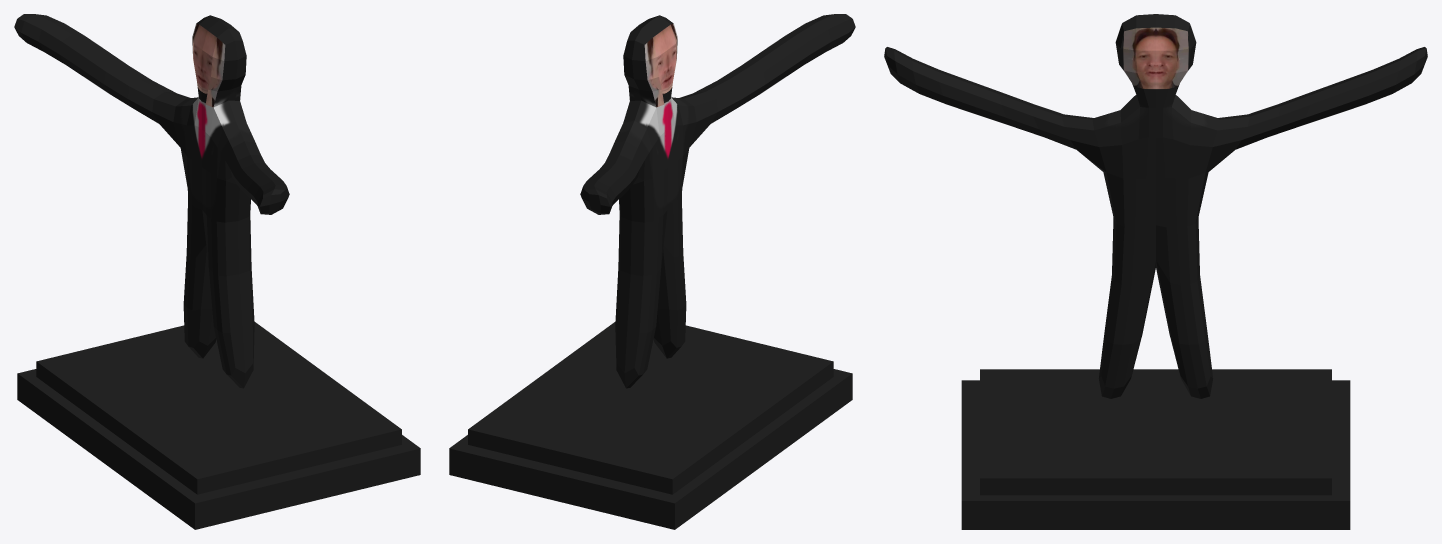
File: prof.fbx
3 renders of one model, left to right at view 1: azimuth 30°, elevation 25°; view 2: azimuth 150°, elevation 25°; view 3: azimuth 270°, elevation 25°, orthographic. The views are drawn at different scales.
Parts seen in each view (by area): view 1: Cube, Cube.001; view 2: Cube, Cube.001; view 3: Cube, Cube.001.
Part boxes in pixels (bbox=[...]): Cube: bbox=[17, 321, 420, 529]; Cube.001: bbox=[14, 14, 289, 388]; Cube: bbox=[449, 321, 852, 529]; Cube.001: bbox=[580, 14, 855, 388]; Cube: bbox=[961, 369, 1350, 529]; Cube.001: bbox=[884, 14, 1427, 398].
Size of the model in its own units: 547 by 966 by 1044.
